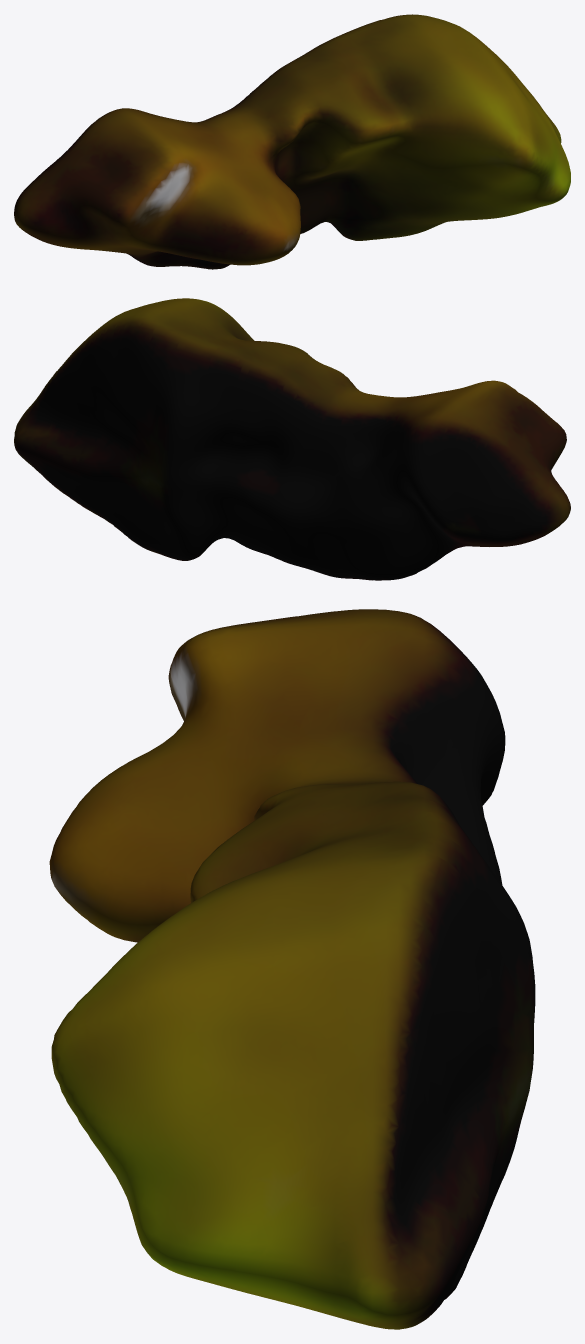
File: blocks.glb
The picture shows the model from 3 angles, top to bottom: view 1: azimuth 30°, elevation 25°; view 2: azimuth 150°, elevation 25°; view 3: azimuth 270°, elevation 25°; orthographic projection. The views are drawn at different scales.
Bounding box in the file's own units: 0.9985 × 0.3914 × 0.3893.
